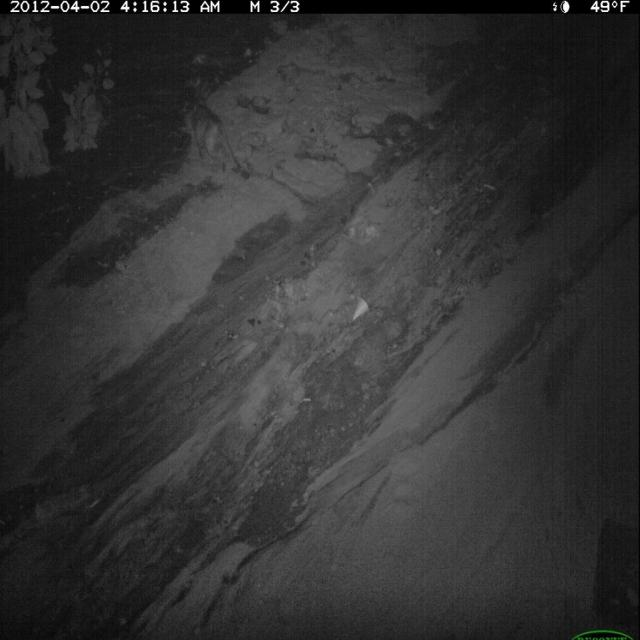cat: (177, 91, 247, 176)
